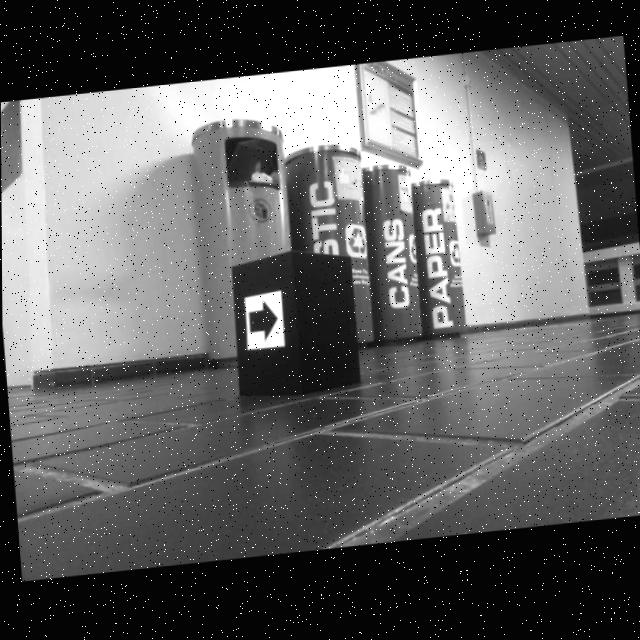RIGHT: (248, 304, 277, 342)
